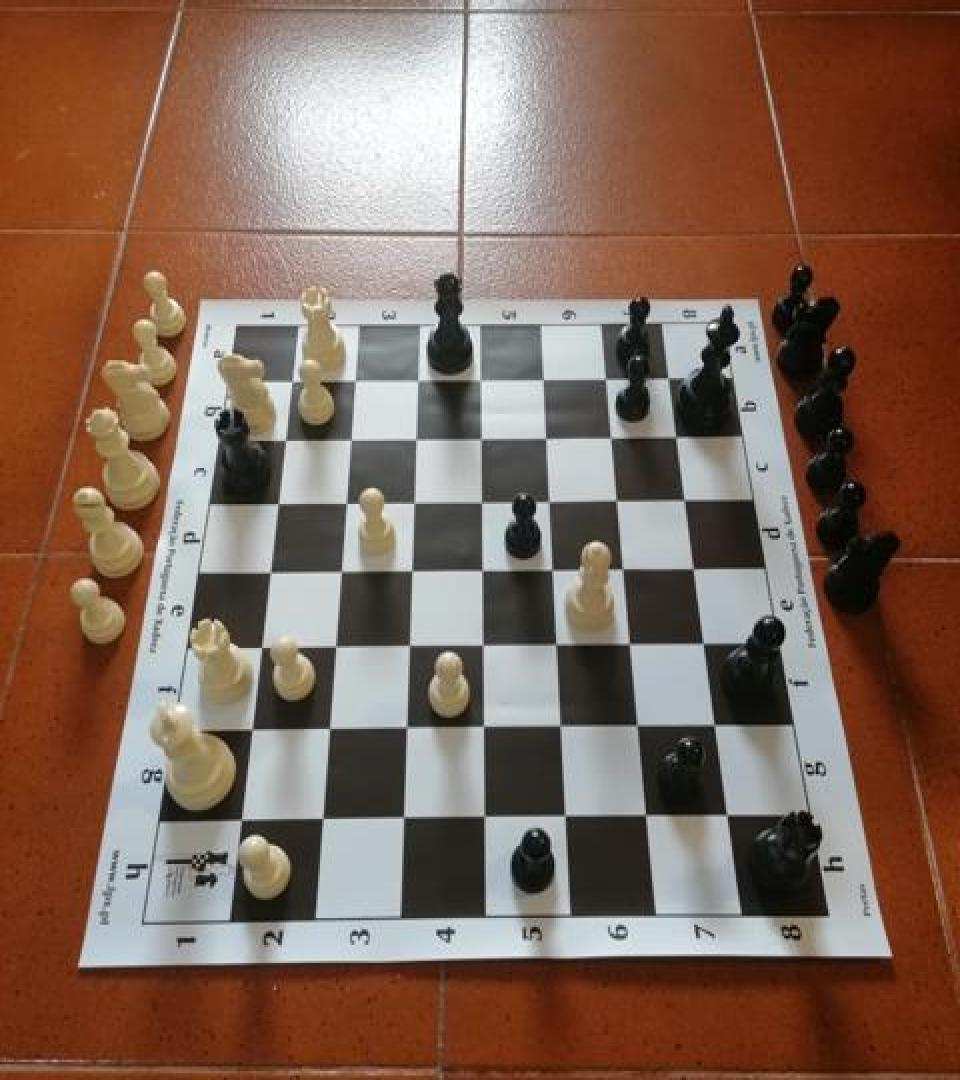xcorner: (658, 361, 686, 393), (594, 362, 622, 394), (531, 363, 559, 395), (467, 364, 495, 396), (404, 364, 432, 396), (534, 423, 562, 455), (468, 423, 496, 455), (402, 424, 430, 456), (336, 425, 364, 457), (270, 426, 298, 458), (605, 486, 633, 518), (537, 487, 565, 519), (468, 488, 496, 520), (400, 488, 428, 520), (331, 489, 359, 521), (262, 490, 290, 522), (397, 558, 425, 590), (326, 559, 354, 591), (255, 560, 283, 592), (692, 630, 720, 662), (618, 630, 646, 662), (543, 631, 571, 663), (469, 632, 497, 664), (395, 633, 423, 665), (320, 634, 348, 666), (703, 711, 731, 743), (625, 712, 653, 744), (547, 713, 575, 745), (469, 714, 497, 746), (392, 715, 420, 747), (714, 801, 742, 833), (633, 802, 661, 834), (551, 803, 579, 835), (470, 804, 498, 836), (389, 805, 417, 837), (340, 366, 368, 397), (277, 367, 305, 398), (666, 421, 694, 452), (600, 422, 628, 453), (674, 485, 702, 516), (683, 555, 711, 586), (611, 556, 639, 587), (540, 556, 568, 587), (468, 557, 496, 588), (246, 636, 274, 667), (314, 717, 342, 748), (236, 718, 264, 749), (307, 807, 335, 838), (226, 808, 254, 839)
